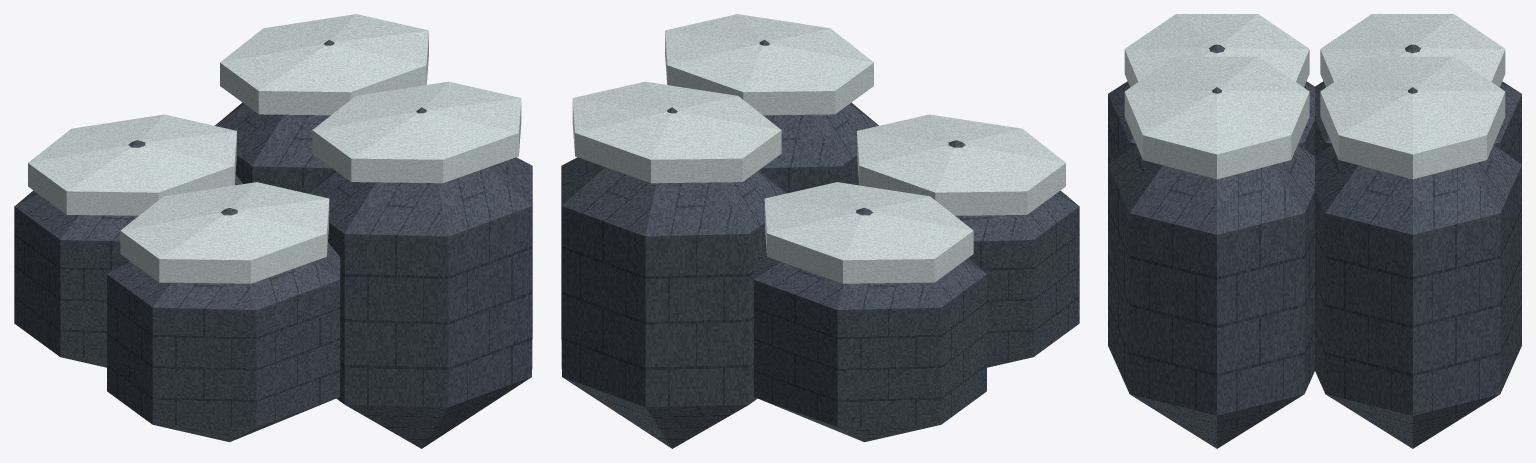
Rendered from rocks_snow.glb.
3 renders of one model, left to right at view 1: azimuth 30°, elevation 25°; view 2: azimuth 150°, elevation 25°; view 3: azimuth 270°, elevation 25°, orthographic. The views are drawn at different scales.
Parts seen in each view (by area): view 1: rock (×4), snowcap (×4); view 2: rock (×4), snowcap (×4); view 3: rock (×4), snowcap (×4).
Boxes of the visible parts, bbox=[...] form: rock (×4): bbox=[14, 40, 532, 448]; snowcap (×4): bbox=[28, 14, 521, 283]; rock (×4): bbox=[561, 40, 1079, 448]; snowcap (×4): bbox=[572, 14, 1065, 283]; rock (×4): bbox=[1108, 44, 1521, 448]; snowcap (×4): bbox=[1124, 14, 1505, 179].
Bounding box in the file's own units: 1.26 × 1.02 × 1.06.
1 material, 1 textured.
